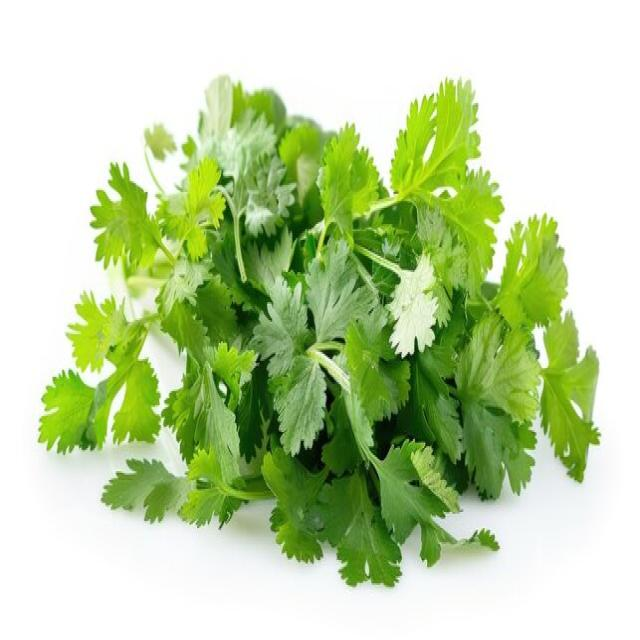Coriander Leaves: (37, 71, 601, 589)
